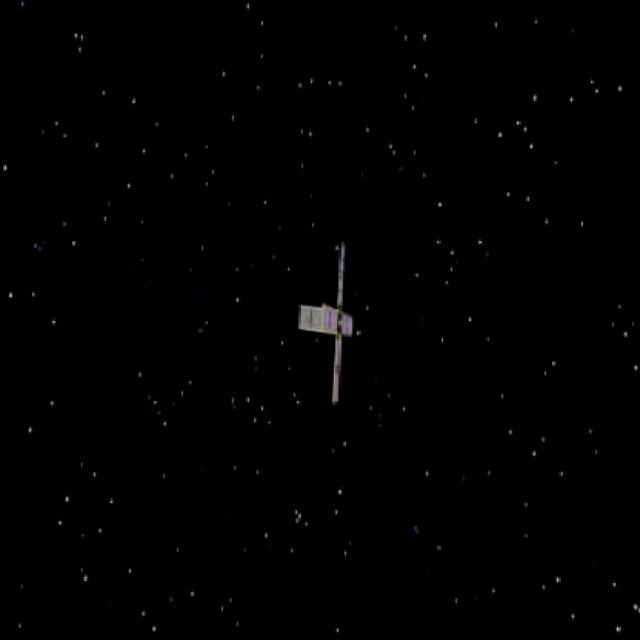medium_debris: (292, 234, 377, 412)
